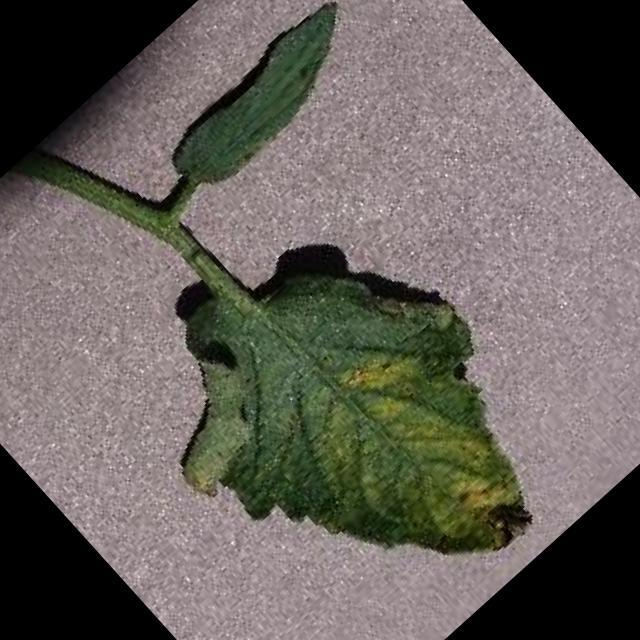Tomato Septoria spot leaf: (109, 183, 599, 640)
